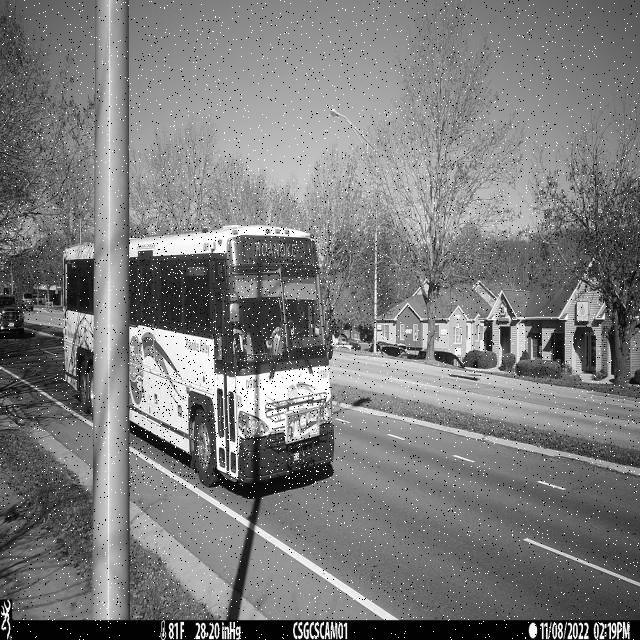Bus: (129, 226, 334, 488), (63, 243, 95, 416)
